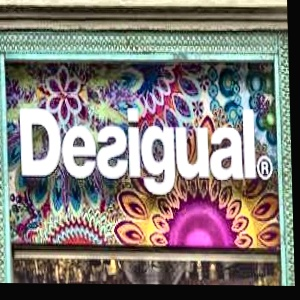desigual: (260, 40, 280, 173)
